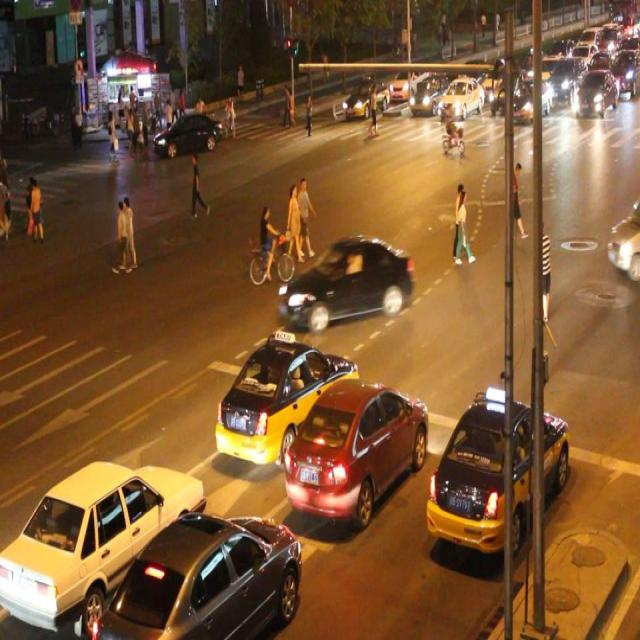car: (1, 458, 205, 630), (94, 515, 300, 640), (427, 398, 572, 554), (284, 378, 427, 518), (216, 336, 358, 464), (278, 238, 411, 320), (152, 113, 223, 152), (604, 199, 640, 274), (438, 72, 482, 122), (342, 75, 388, 119), (410, 70, 447, 115)
